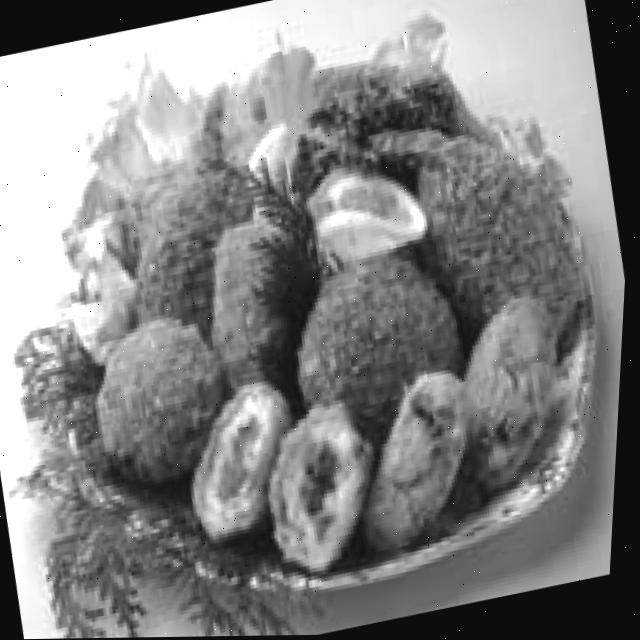炸货点心: (34, 3, 640, 607)
